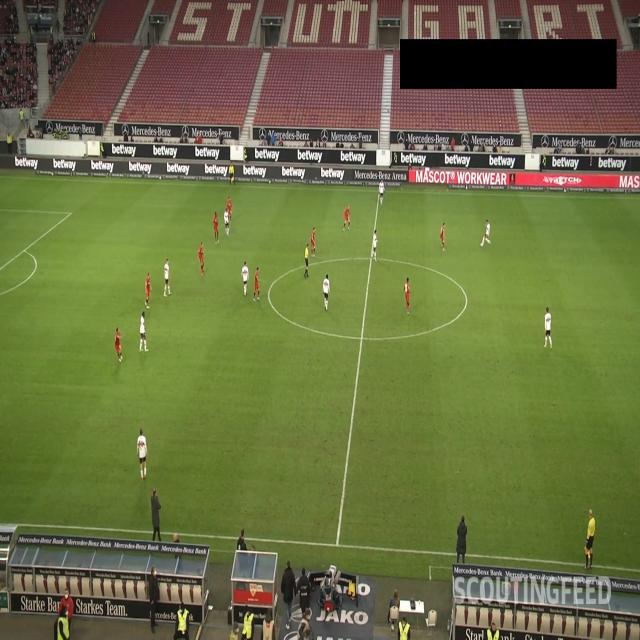ball: (479, 241, 484, 248)
